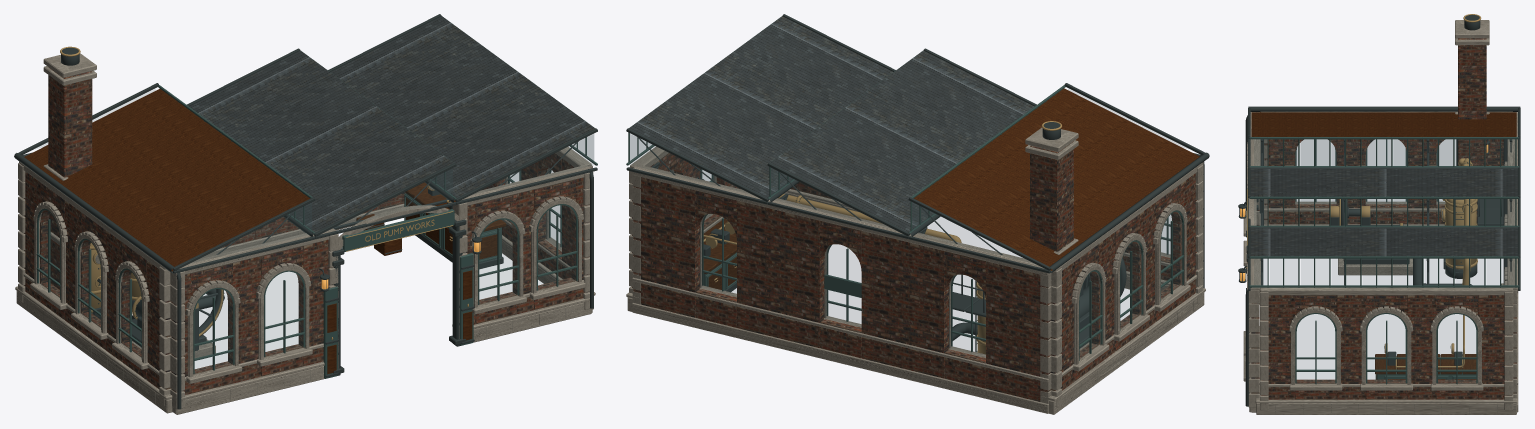
Rendered from pumpworks-v1.glb.
The picture shows the model from 3 angles, left to right: view 1: azimuth 30°, elevation 25°; view 2: azimuth 150°, elevation 25°; view 3: azimuth 270°, elevation 25°; orthographic projection. The views are drawn at different scales.
Visible parts, largest first — view 1: Pump_Roof_Geometry, Pump_Facade_Geometry, Pump_Structure_Geometry; view 2: Pump_Roof_Geometry, Pump_Structure_Geometry, Pump_Facade_Geometry; view 3: Pump_Roof_Geometry, Pump_Facade_Geometry, Pump_Structure_Geometry.
Part boxes in pixels (bbox=[...]): Pump_Roof_Geometry: bbox=[14, 14, 597, 273]; Pump_Facade_Geometry: bbox=[18, 146, 593, 414]; Pump_Structure_Geometry: bbox=[15, 46, 595, 414]; Pump_Roof_Geometry: bbox=[626, 14, 1209, 273]; Pump_Structure_Geometry: bbox=[626, 121, 1205, 414]; Pump_Facade_Geometry: bbox=[629, 146, 1204, 407]; Pump_Roof_Geometry: bbox=[1248, 106, 1520, 290]; Pump_Facade_Geometry: bbox=[1238, 111, 1513, 412]; Pump_Structure_Geometry: bbox=[1249, 14, 1518, 414].
Bounding box in the file's own units: 15.85 × 9.2 × 10.21.
Materials: 11 (4 with a texture image).
